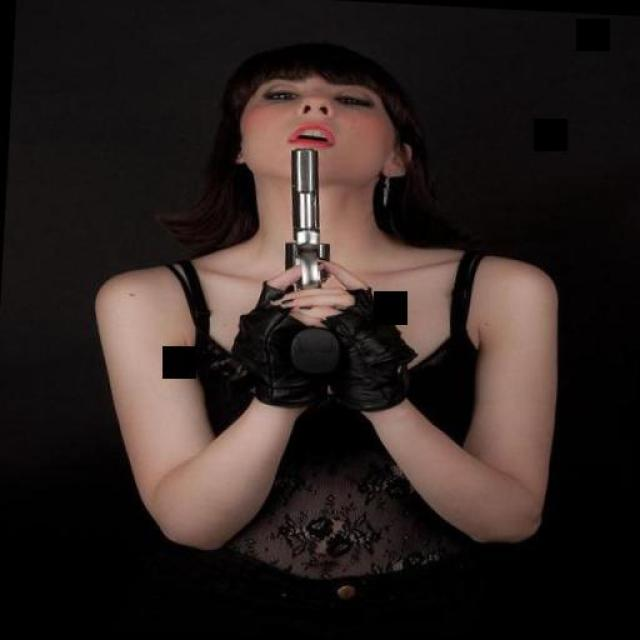gun: (258, 136, 372, 375)
